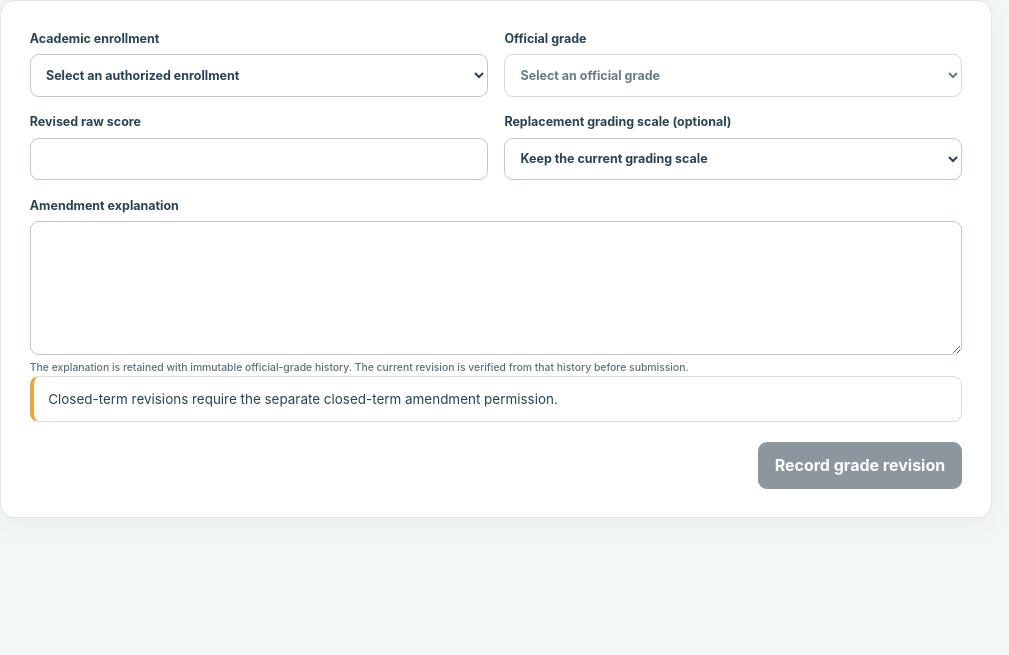
Test: GradeAmendmentForm › loads authorized choices and submits the verified revision number
Select "A. Student · BSc Mathematics · active" in the dropdown labelled "Academic enrollment" at (259, 75), box top-left (30, 54), bottom-right (488, 96)
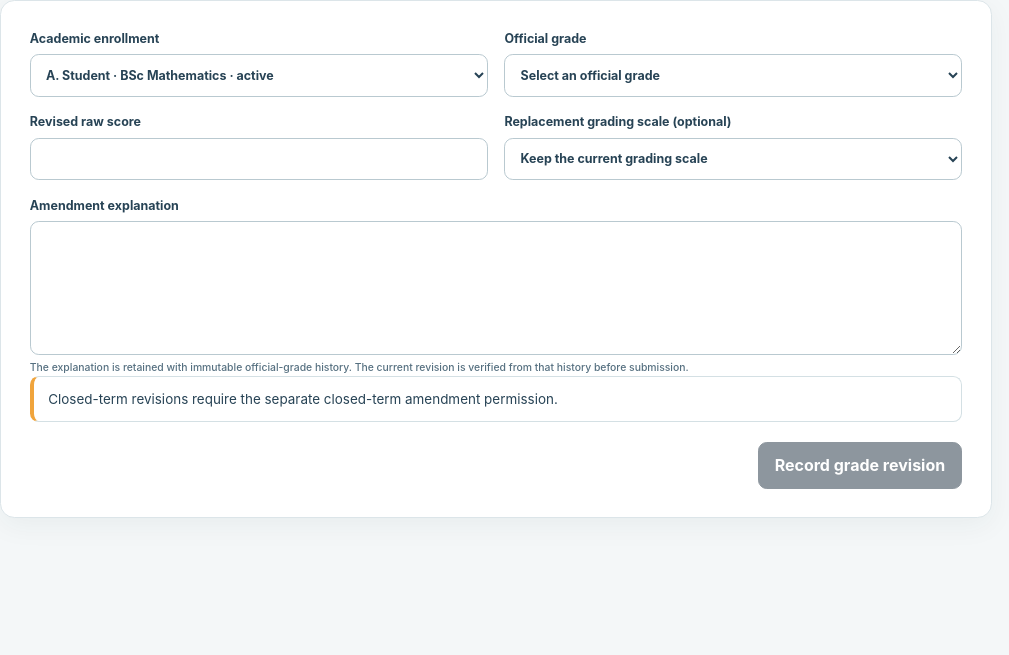
Select "Calculus · Fall 2026 · B" in the dropdown labelled "Official grade" at (733, 75), box top-left (504, 54), bottom-right (962, 96)
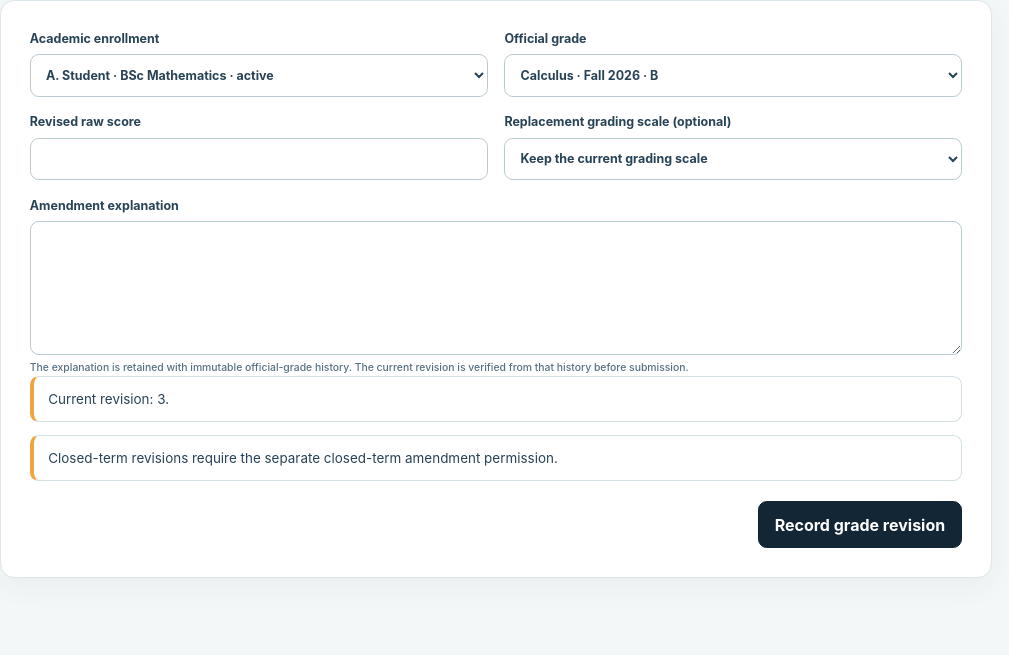
Now the text "Current revision: 3." is shown, box top-left (30, 376), bottom-right (962, 422)
Type "91.5" into the field labelled "Revised raw score" at (259, 159), box top-left (30, 138), bottom-right (488, 180)
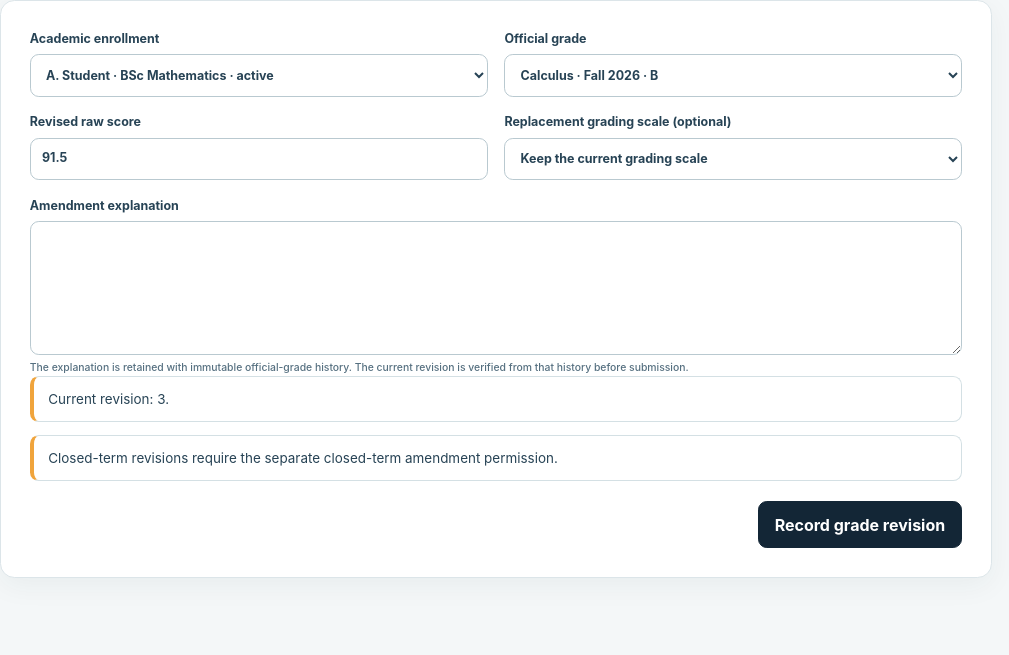
Select "Undergraduate scale" in the dropdown labelled "Replacement grading scale (optional)" at (733, 159), box top-left (504, 138), bottom-right (962, 180)
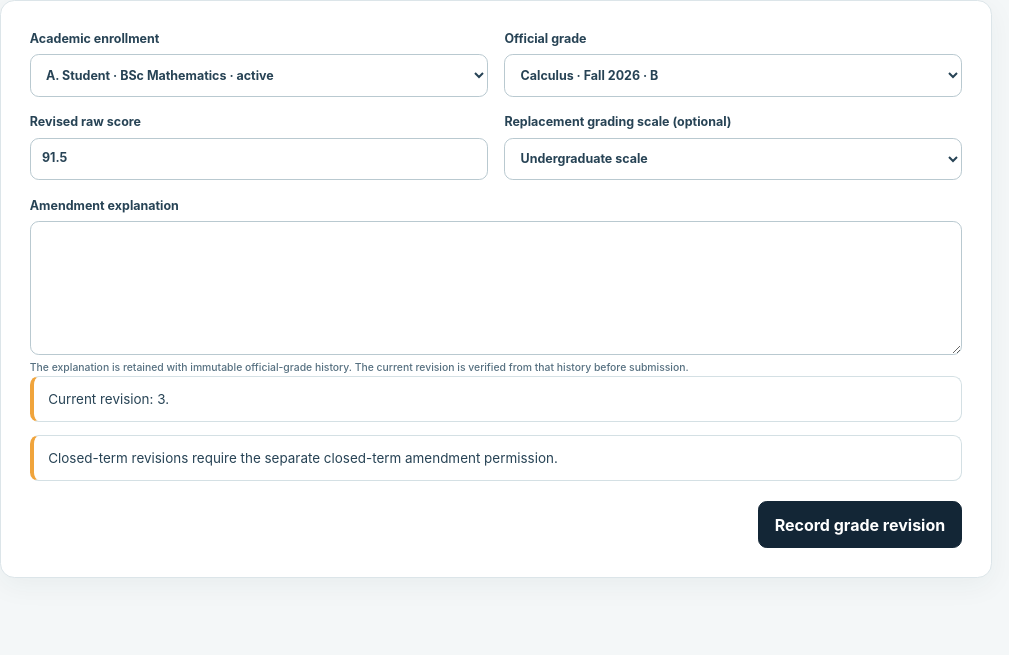
Type "The source record was corrected." into the text box labelled "Amendment explanation" at (496, 288), box top-left (30, 221), bottom-right (962, 354)
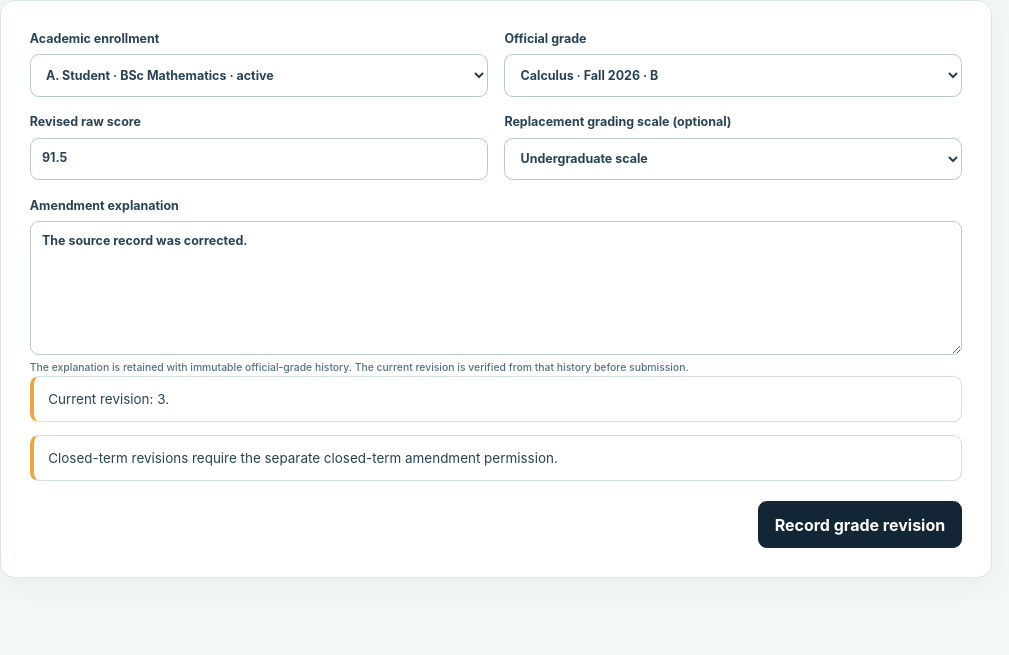
Click the button "Record grade revision" at (860, 525), box top-left (758, 502), bottom-right (962, 548)
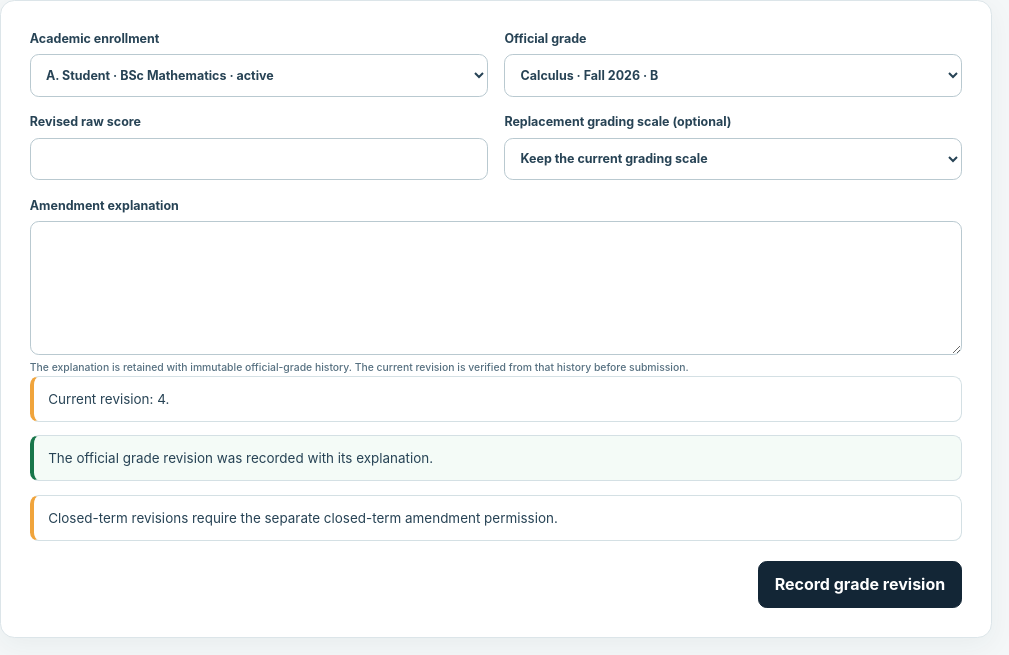
Now the text "The official grade revision was recorded with its explanation." is shown, box top-left (30, 435), bottom-right (962, 482)
Now the text "Current revision: 4." is shown, box top-left (30, 376), bottom-right (962, 422)
